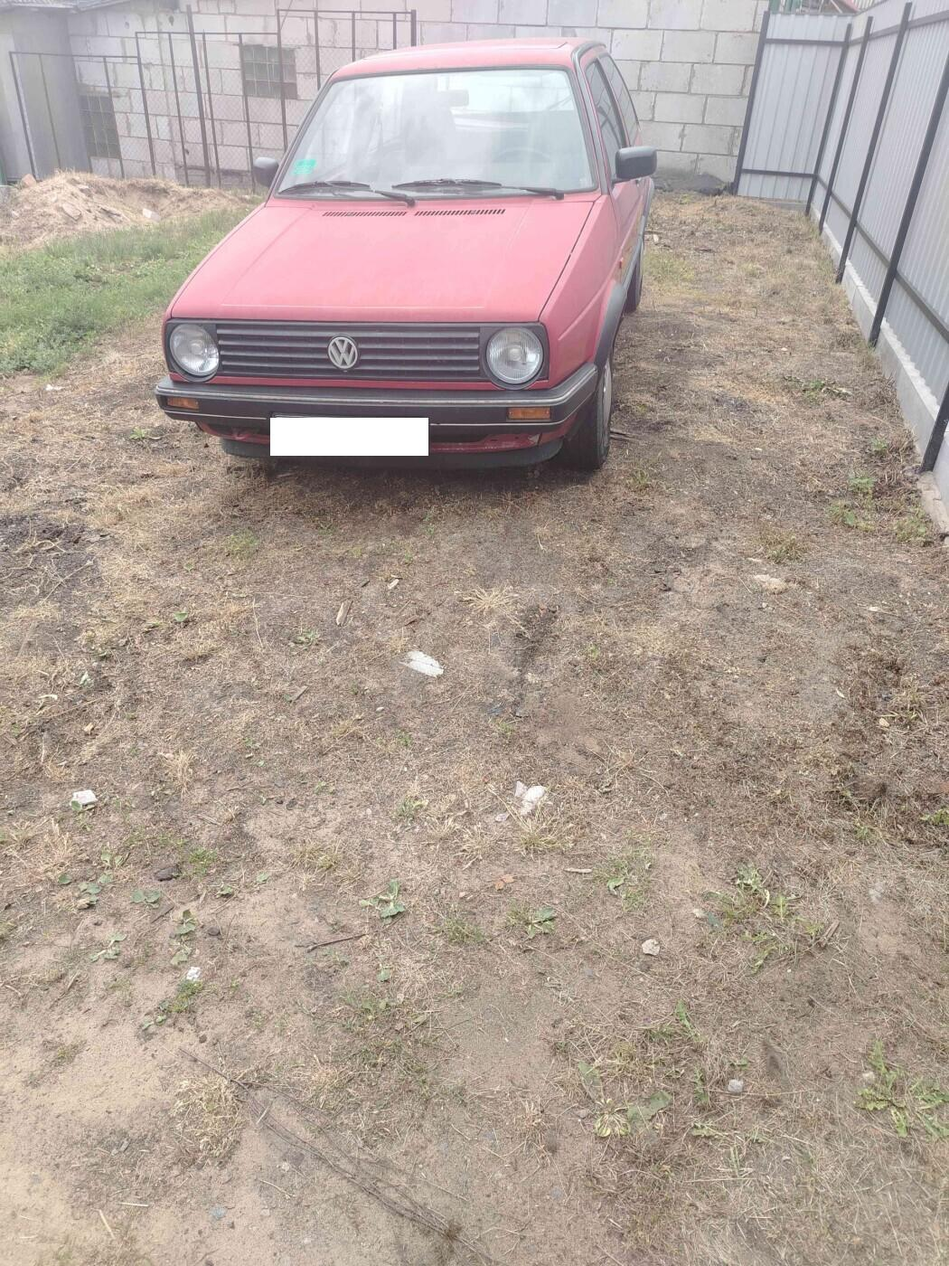Golf_1983-1992: (154, 34, 660, 488)
